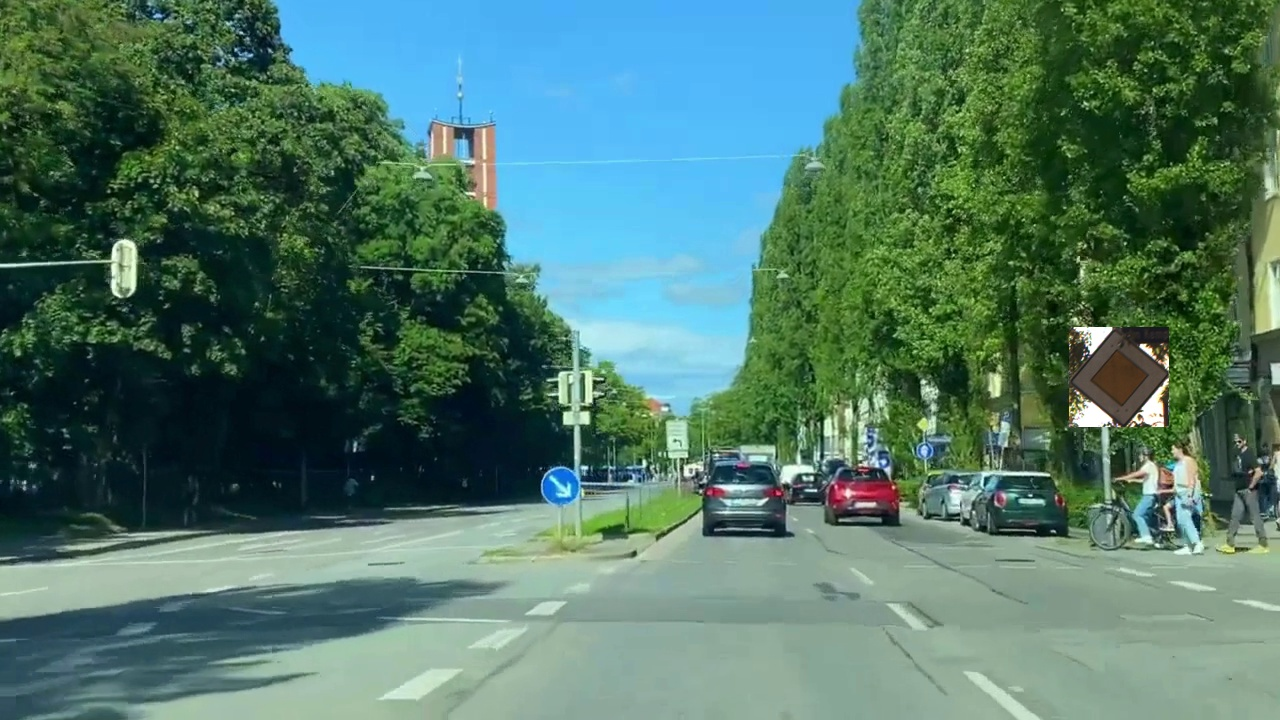Priority road: (1069, 327, 1169, 427)
